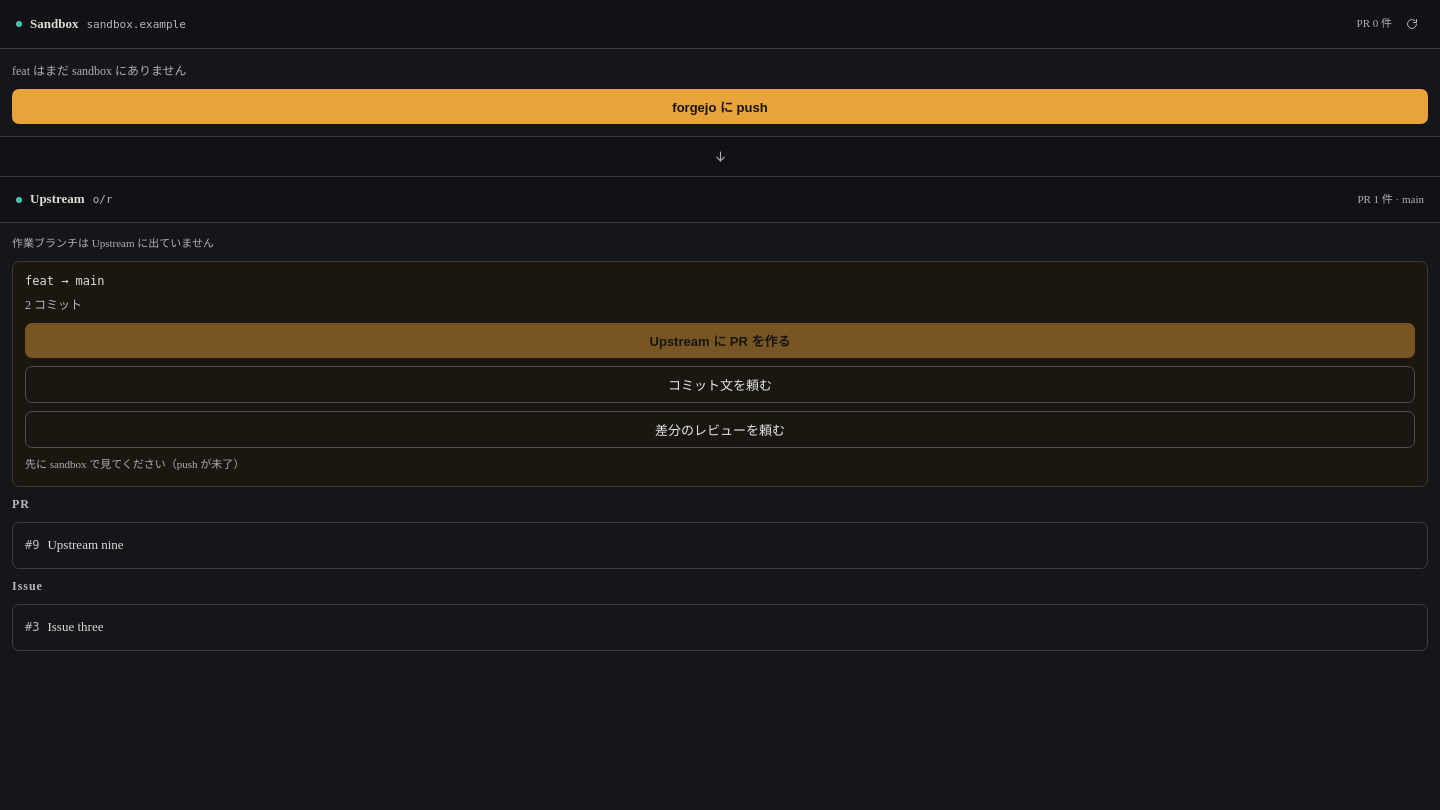
Scenario: Forge › push 前は push の釦。push すると PR を作る釦に変わり、本文はコミットの一覧
Expected: the text "feat はまだ sandbox にありません" is shown, [12,64,187,78]
Expected: the text "先に sandbox で見てください（push が未了）" is shown, [25,458,244,470]
Click the button "forgejo に push".
click(720, 107)  # box [12,89,1428,124]
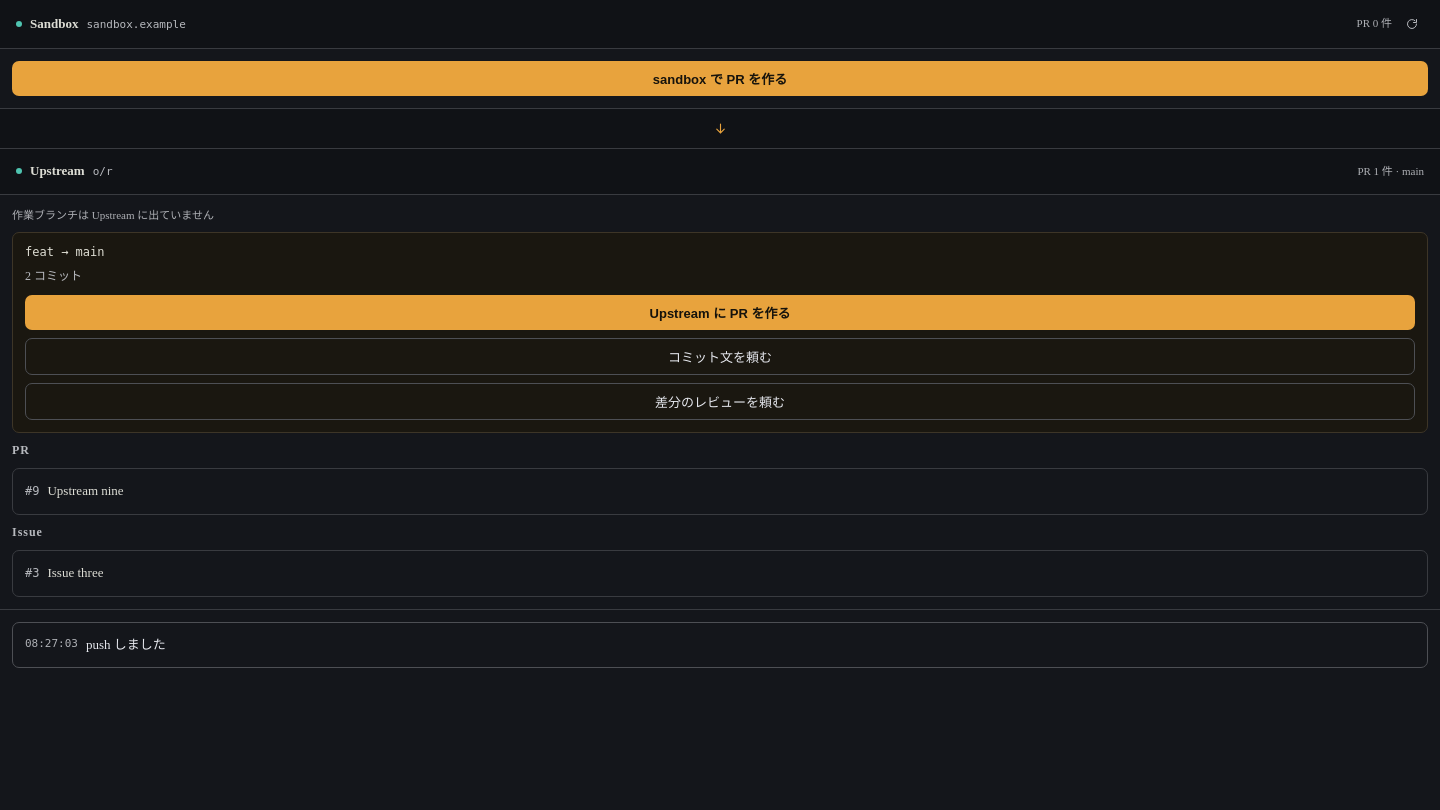
Result: the button "sandbox で PR を作る" is shown
Click the button "sandbox で PR を作る".
click(720, 78)  # box [12,61,1428,96]
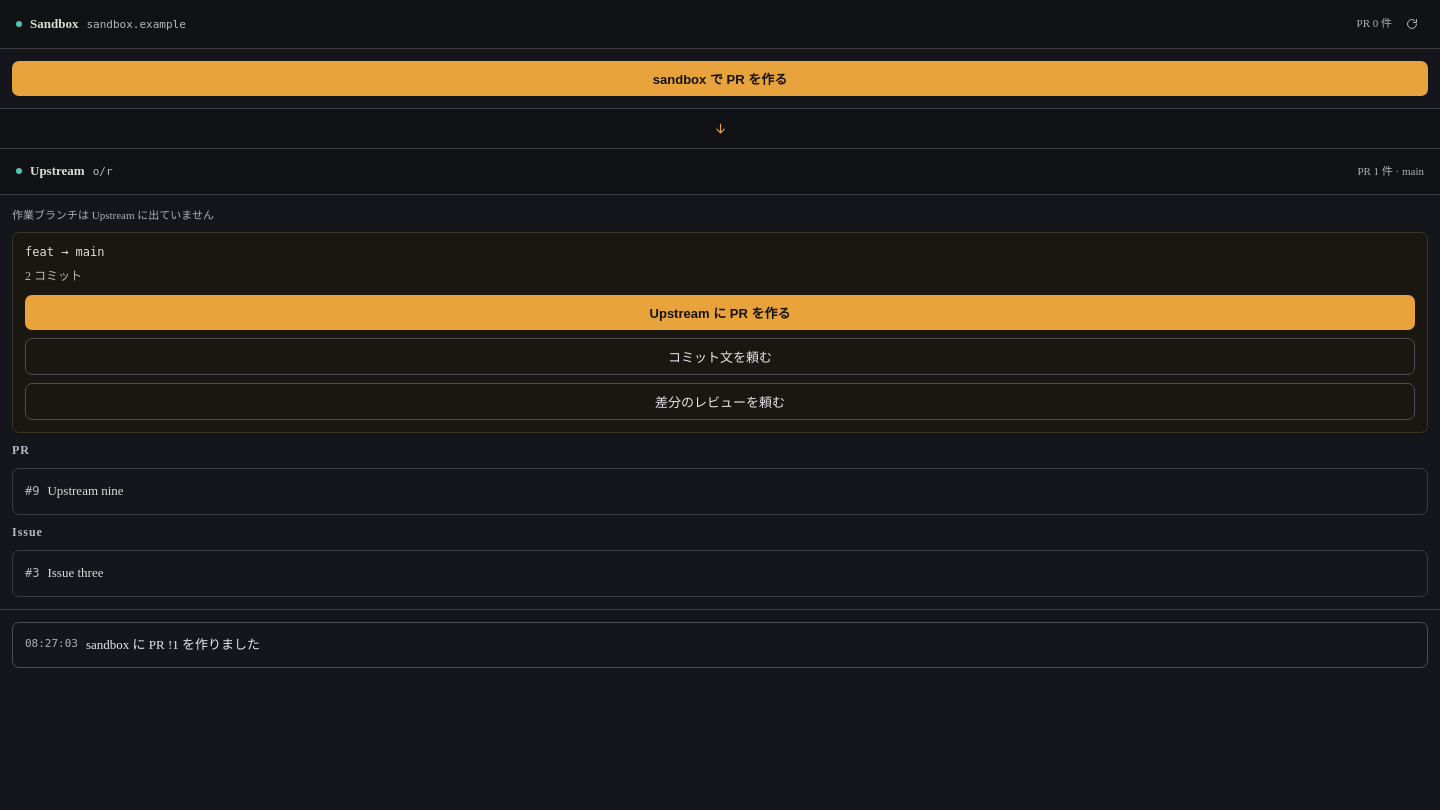
Result: the text "sandbox に PR !1 を作りました" is shown at [86,634,260,655]
